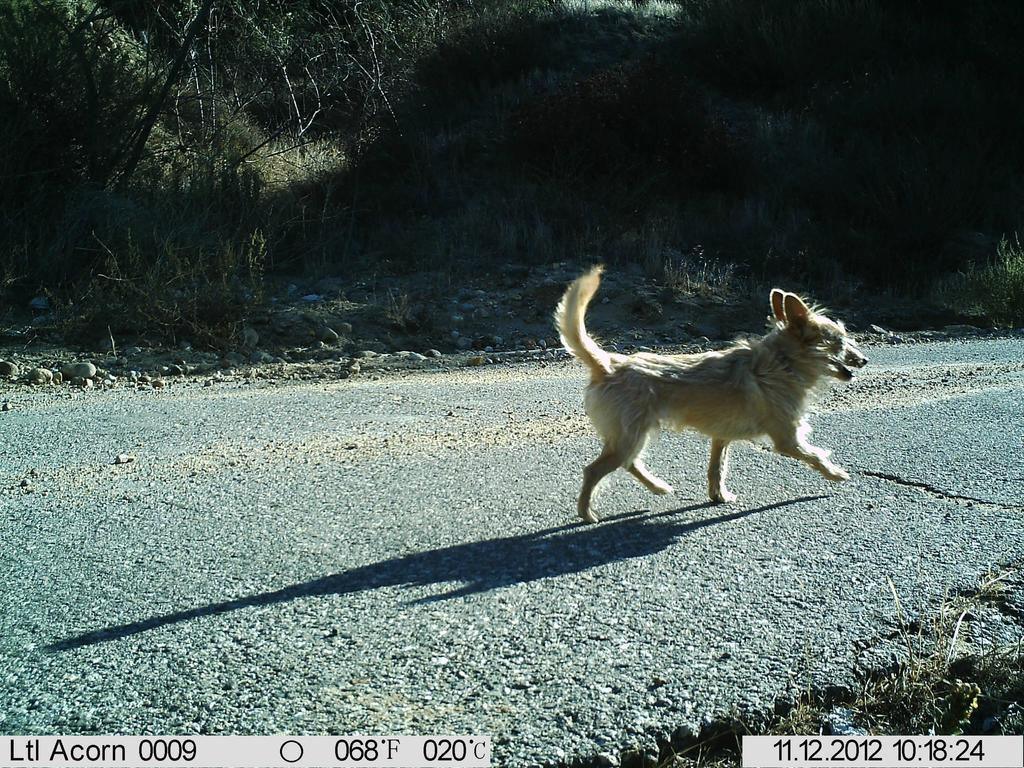dog: (553, 249, 879, 537)
